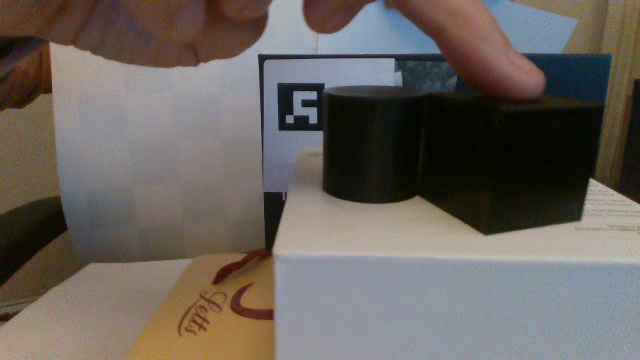cube: (421, 80, 609, 239)
cylindre: (316, 74, 424, 208)
